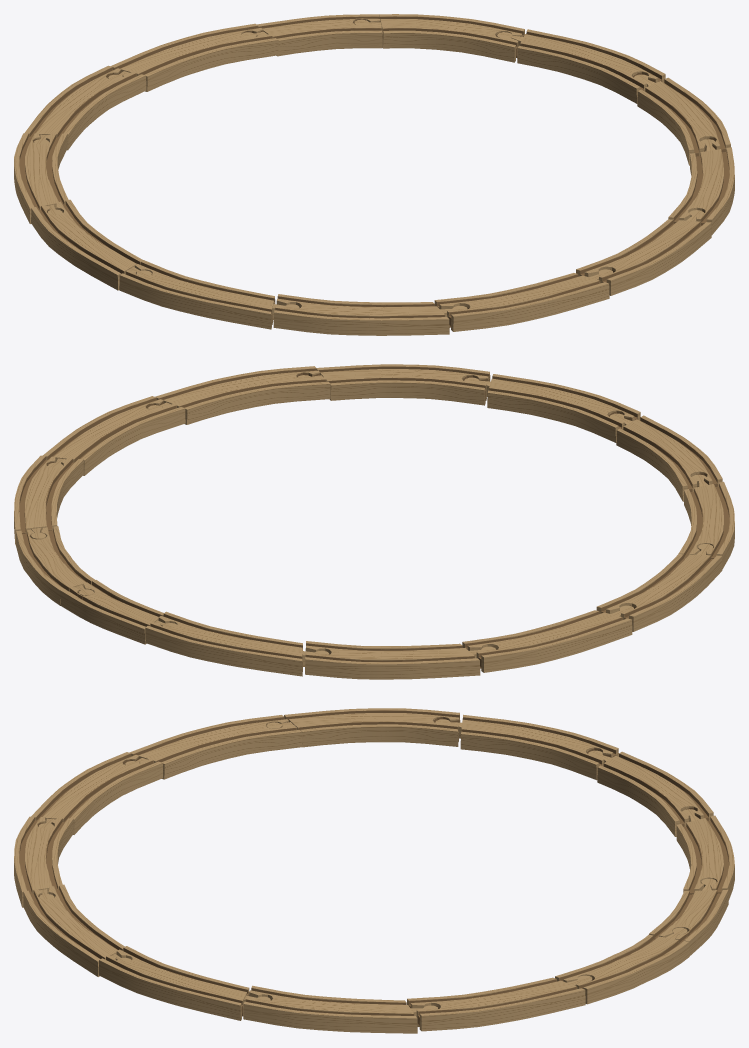
The model's file is TrainsTracks.fbx.
3 views of the same model, one above another, from view 1: azimuth 30°, elevation 25°; view 2: azimuth 150°, elevation 25°; view 3: azimuth 270°, elevation 25° (orthographic).
Parts seen in each view (by area): view 1: TrainTrack.013; view 2: TrainTrack.013; view 3: TrainTrack.013.
Part boxes in pixels (x1,y1,x2,y2): TrainTrack.013: (14, 14, 734, 335); TrainTrack.013: (14, 364, 734, 679); TrainTrack.013: (14, 708, 734, 1033).
Size of the model in its own units: 185 by 5.56 by 184.
